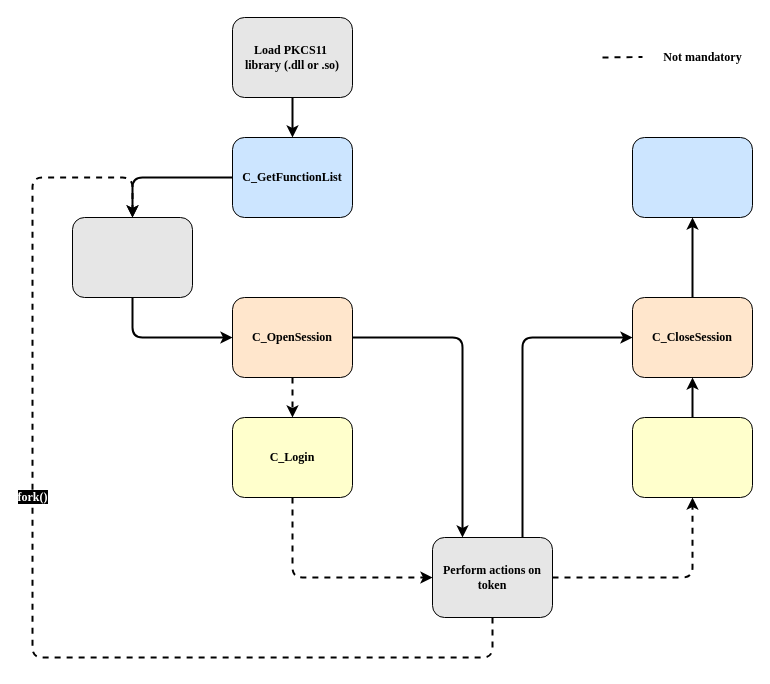
Image size: 770x684. Some labels were removed from this diagram. The shapes that lost their labels are listed below. From the top down, each one's centre as x and y in pixels, then its label:
the point at 692,177: C_Finalize
the point at 132,257: C_Initialize
the point at 692,457: C_Logout
